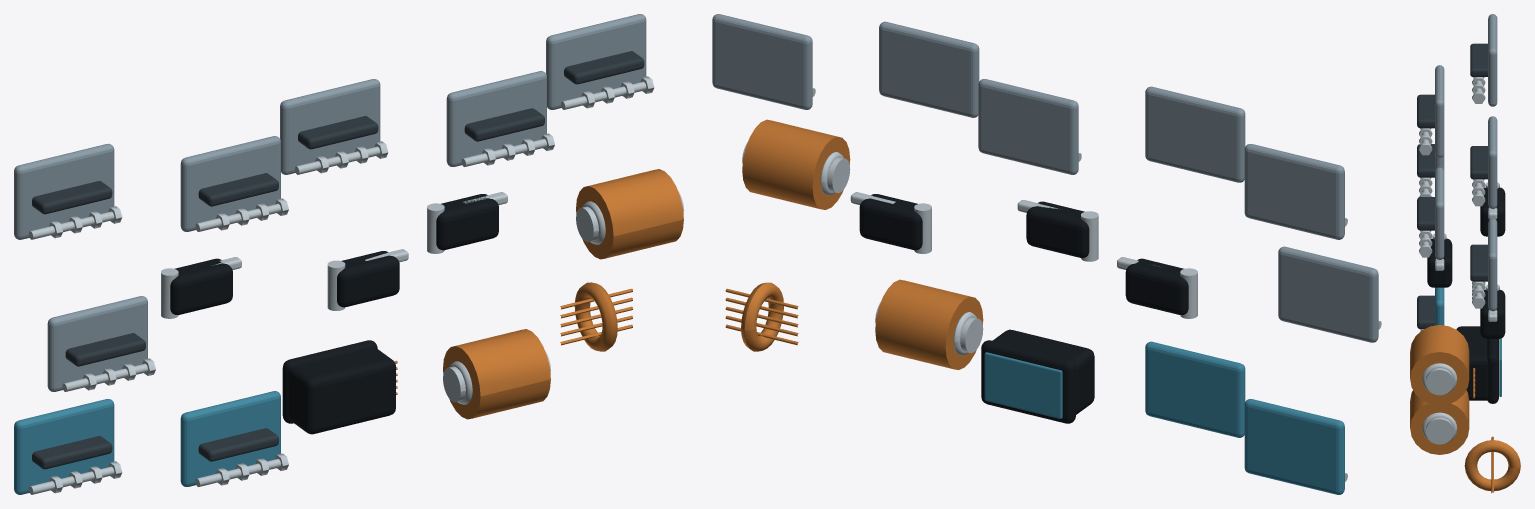
Rendered from generic_body.glb.
The picture shows the model from 3 angles, left to right: view 1: azimuth 30°, elevation 25°; view 2: azimuth 150°, elevation 25°; view 3: azimuth 270°, elevation 25°; orthographic projection. The views are drawn at different scales.
Visible parts, largest first — view 1: system_mesh__side_mirrors__housing, system_mesh__mirror_motors__stator, system_mesh__window_motors__stator, system_mesh__engine_splash_shields__outer_surface, system_mesh__rear_doors__outer_surface, system_mesh__door_glass__outer_surface, system_mesh__rear_glass__outer_surface, system_mesh__side_panels__outer_surface, system_mesh__front_doors__outer_surface, system_mesh__tailgate__outer_surface, system_mesh__rocker_panels__outer_surface, system_mesh__door_checks__body (+12 smaller); view 2: system_mesh__rocker_panels__outer_surface, system_mesh__engine_splash_shields__outer_surface, system_mesh__door_glass__outer_surface, system_mesh__front_doors__outer_surface, system_mesh__tailgate__outer_surface, system_mesh__rear_glass__outer_surface, system_mesh__rear_doors__outer_surface, system_mesh__side_panels__outer_surface, system_mesh__window_motors__stator, system_mesh__mirror_motors__stator, system_mesh__side_mirrors__surface, system_mesh__door_checks__body (+5 smaller); view 3: system_mesh__window_motors__stator, system_mesh__mirror_motors__stator, system_mesh__mirror_heaters__service_profile, system_mesh__side_mirrors__housing, system_mesh__tailgate__outer_surface, system_mesh__side_panels__outer_surface, system_mesh__rocker_panels__outer_surface, system_mesh__front_doors__outer_surface, system_mesh__rear_doors__outer_surface, system_mesh__door_latches__body, system_mesh__exterior_handles__body, system_mesh__door_checks__body (+19 smaller).
Part boxes in pixels (x1,y1,x2,y2): system_mesh__side_mirrors__housing: [288, 347, 395, 434]; system_mesh__mirror_motors__stator: [443, 329, 550, 419]; system_mesh__window_motors__stator: [576, 169, 683, 259]; system_mesh__engine_splash_shields__outer_surface: [47, 296, 147, 391]; system_mesh__rear_doors__outer_surface: [180, 136, 280, 231]; system_mesh__door_glass__outer_surface: [14, 399, 114, 494]; system_mesh__rear_glass__outer_surface: [180, 391, 280, 486]; system_mesh__side_panels__outer_surface: [446, 71, 546, 166]; system_mesh__front_doors__outer_surface: [14, 143, 114, 239]; system_mesh__tailgate__outer_surface: [280, 79, 380, 174]; system_mesh__rocker_panels__outer_surface: [546, 14, 646, 109]; system_mesh__door_checks__body: [170, 258, 232, 314]; system_mesh__rocker_panels__outer_surface: [712, 14, 812, 109]; system_mesh__engine_splash_shields__outer_surface: [1278, 246, 1378, 342]; system_mesh__door_glass__outer_surface: [1244, 399, 1344, 494]; system_mesh__front_doors__outer_surface: [1244, 144, 1344, 239]; system_mesh__tailgate__outer_surface: [978, 79, 1078, 174]; system_mesh__rear_glass__outer_surface: [1145, 341, 1245, 437]; system_mesh__rear_doors__outer_surface: [1145, 86, 1245, 182]; system_mesh__side_panels__outer_surface: [879, 21, 979, 117]; system_mesh__window_motors__stator: [742, 119, 850, 209]; system_mesh__mirror_motors__stator: [875, 279, 983, 369]; system_mesh__side_mirrors__surface: [984, 352, 1062, 418]; system_mesh__door_checks__body: [1125, 258, 1188, 314]; system_mesh__window_motors__stator: [1410, 325, 1469, 405]; system_mesh__mirror_motors__stator: [1410, 390, 1469, 454]; system_mesh__mirror_heaters__service_profile: [1464, 440, 1520, 491]; system_mesh__side_mirrors__housing: [1456, 326, 1488, 400]; system_mesh__tailgate__outer_surface: [1488, 116, 1497, 208]; system_mesh__side_panels__outer_surface: [1435, 167, 1444, 259]; system_mesh__rocker_panels__outer_surface: [1488, 218, 1497, 311]; system_mesh__front_doors__outer_surface: [1488, 14, 1497, 106]; system_mesh__rear_doors__outer_surface: [1435, 65, 1444, 157]; system_mesh__door_latches__body: [1427, 238, 1452, 287]; system_mesh__exterior_handles__body: [1480, 289, 1505, 338]; system_mesh__door_checks__body: [1480, 187, 1505, 236].
Bounding box in the file's own units: 7.35 × 3.66 × 1.42.
